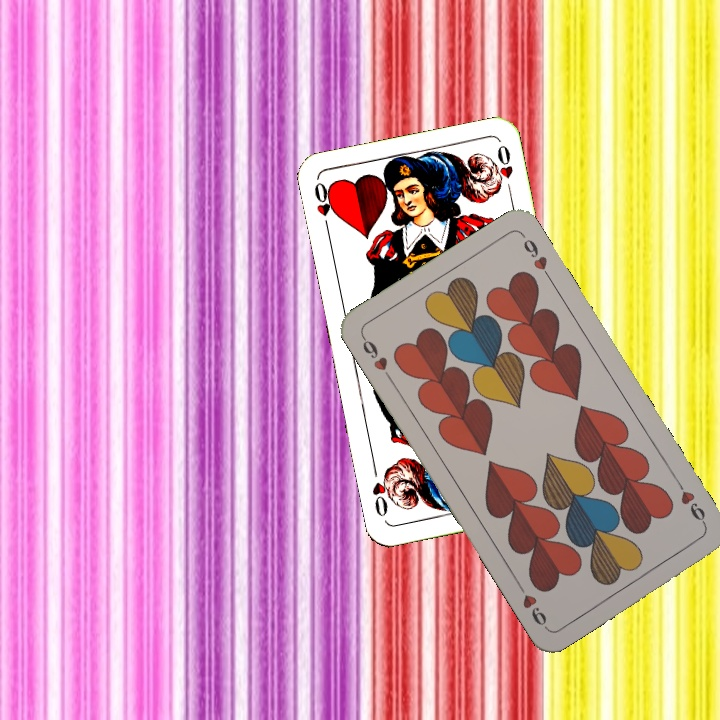H9: (357, 331, 396, 384), (672, 476, 709, 530)
HO: (310, 178, 337, 237)
